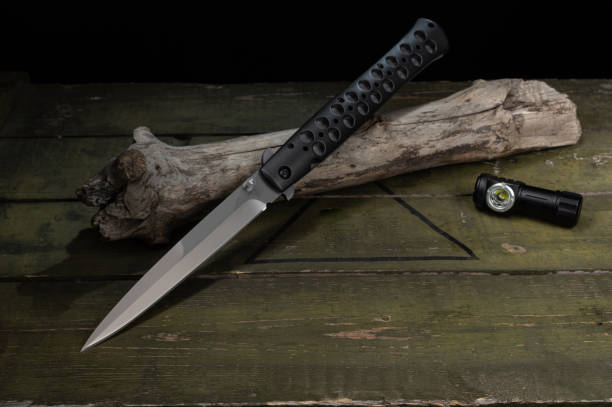knife: (78, 14, 451, 354)
